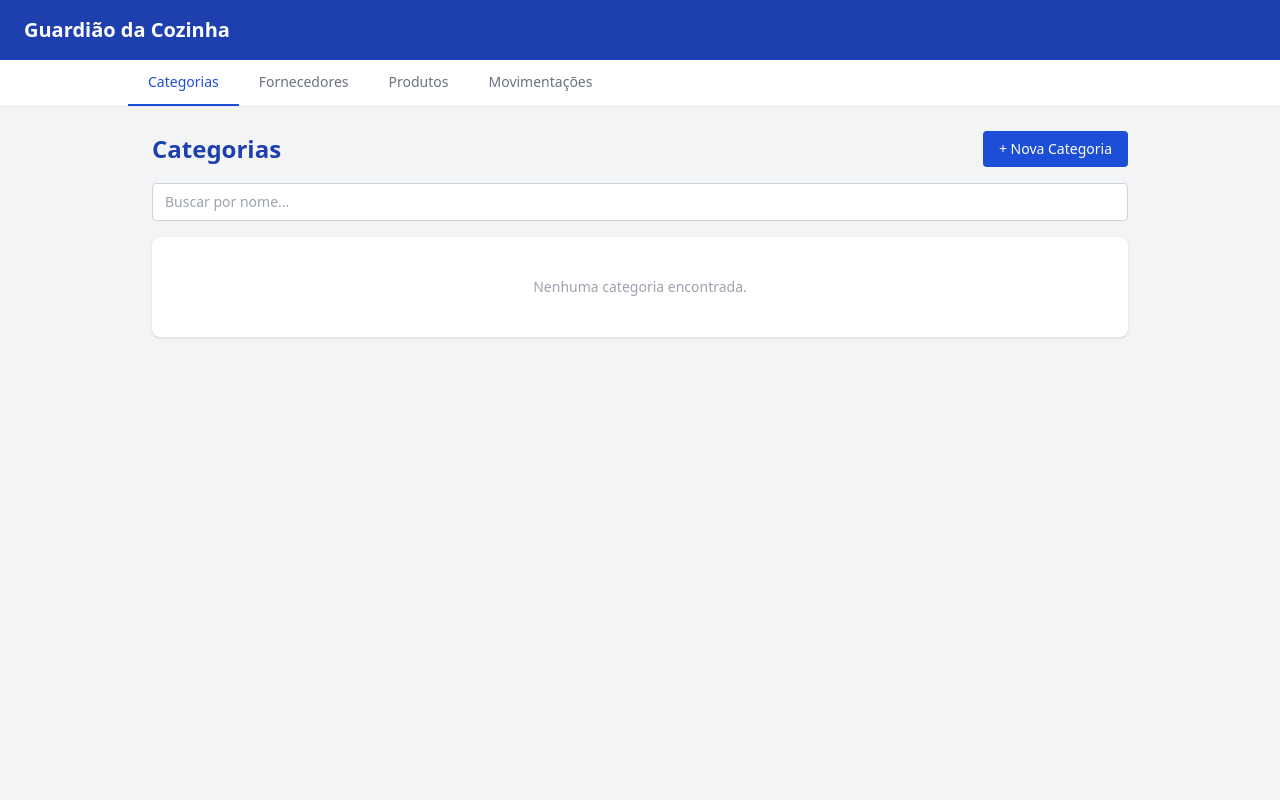
Test case: Testes de Fornecedores › Iniciar Gravador
Click the button "Fornecedores": {"x": 304, "y": 83} [239,60,369,106]
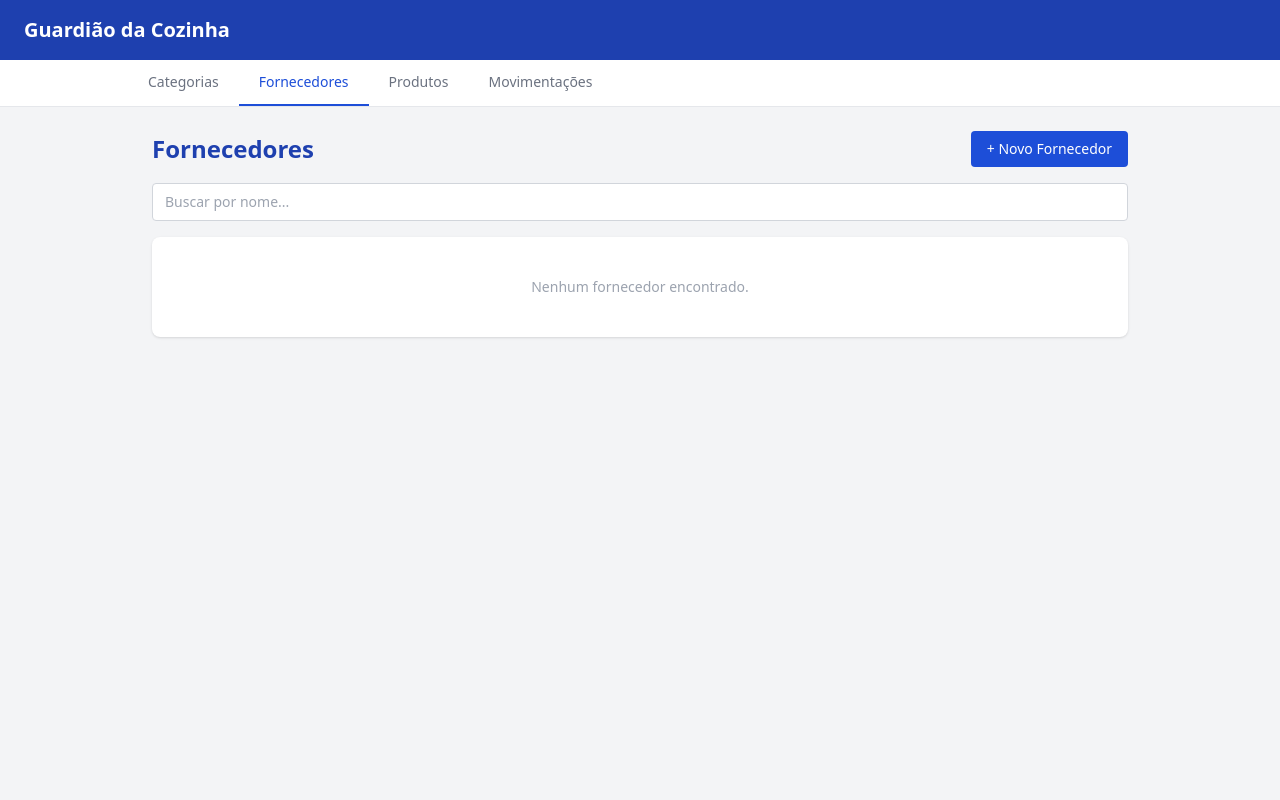
Click the button with class "rounded" showing "+ Novo Fornecedor": {"x": 1050, "y": 149} [971,131,1128,167]
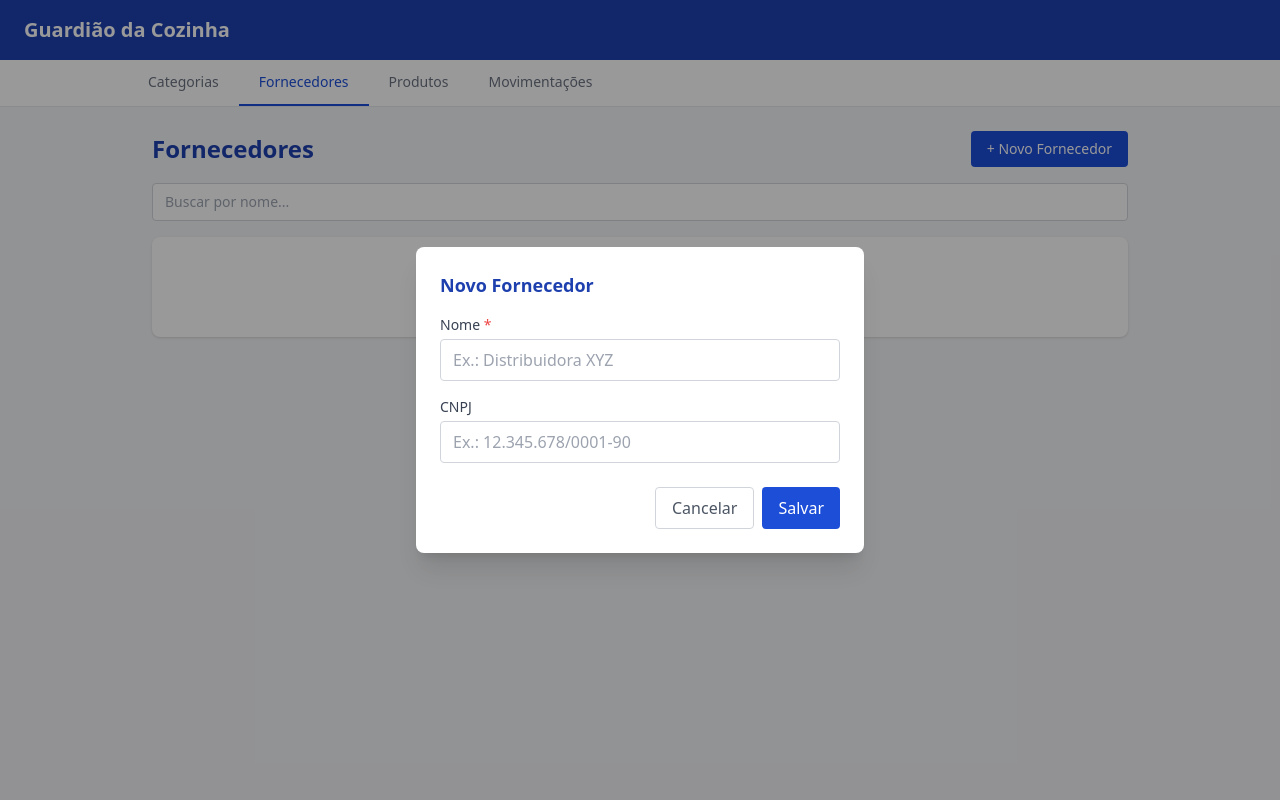
In the field with placeholder "Ex.: Distribuidora XYZ": {"x": 640, "y": 360} [440,339,840,381], type "cemil"
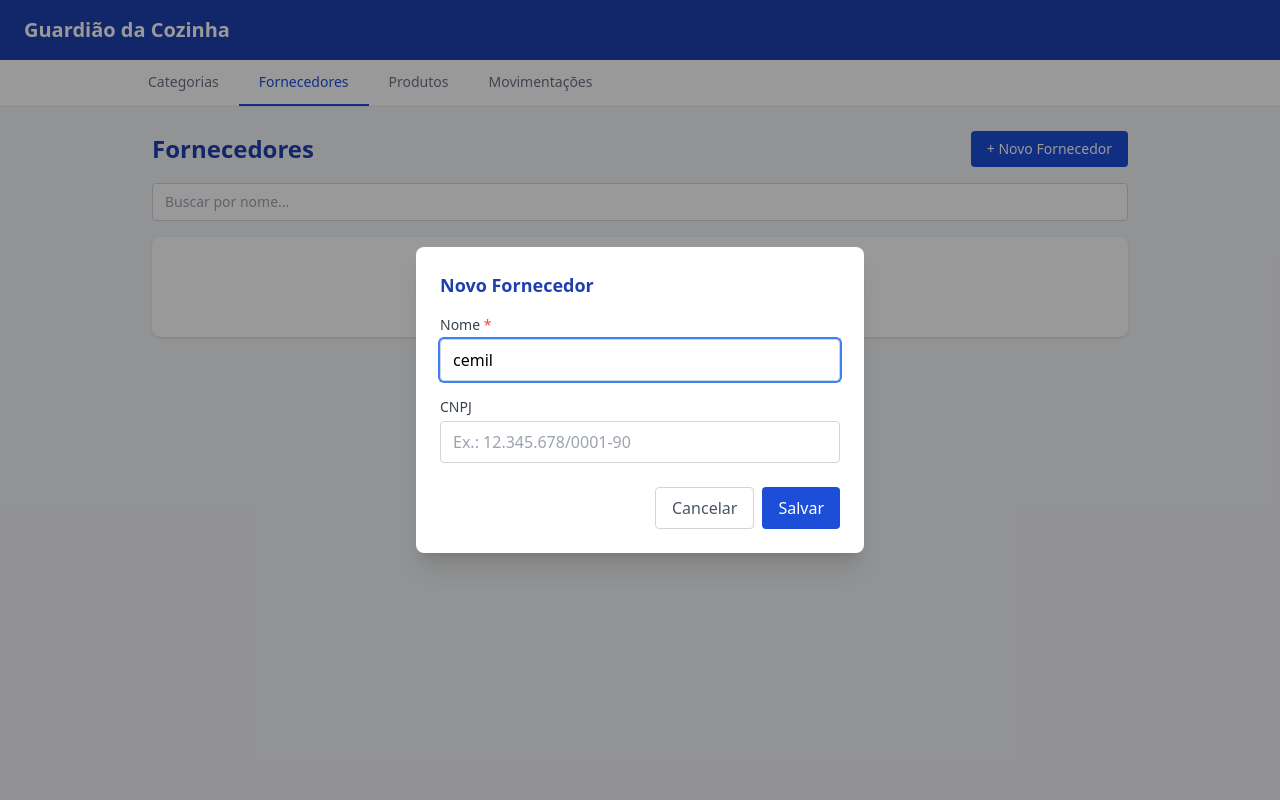
In the field with placeholder "Ex.: 12.345.678/0001-90": {"x": 640, "y": 442} [440,421,840,463], type "12345678999999999"
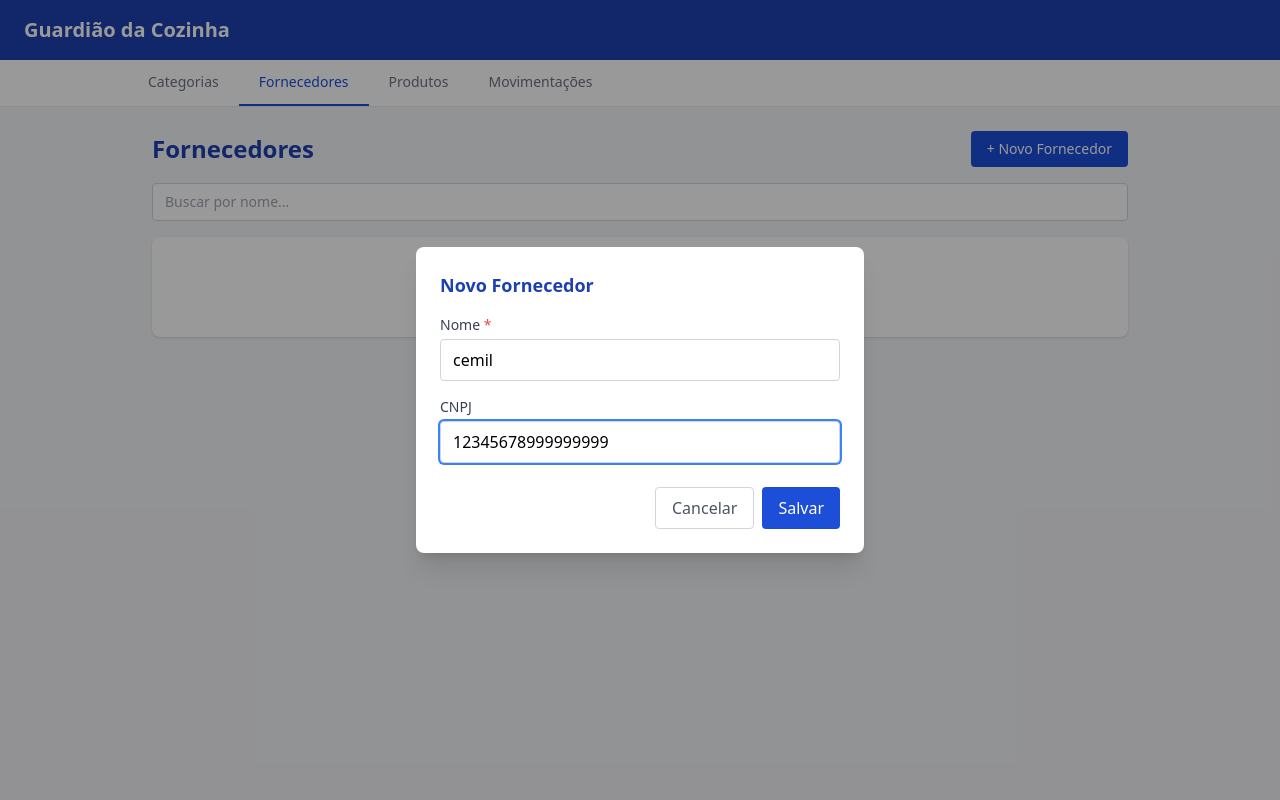
Click the submit button: {"x": 801, "y": 508} [762,487,840,529]
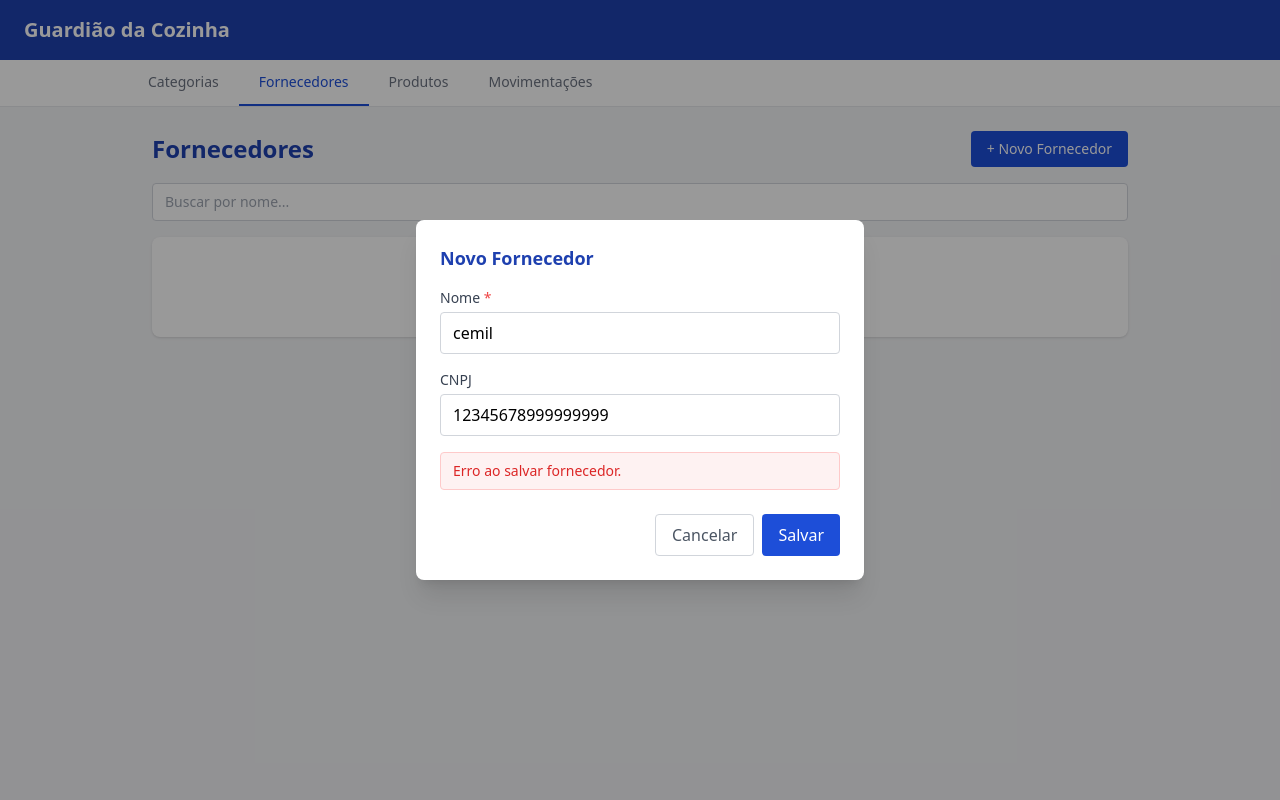
Check: the text "Erro ao salvar fornecedor." is shown, box [440,452,840,490]
